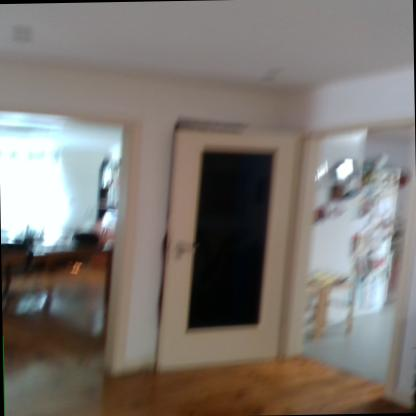open: (153, 107, 416, 413)
